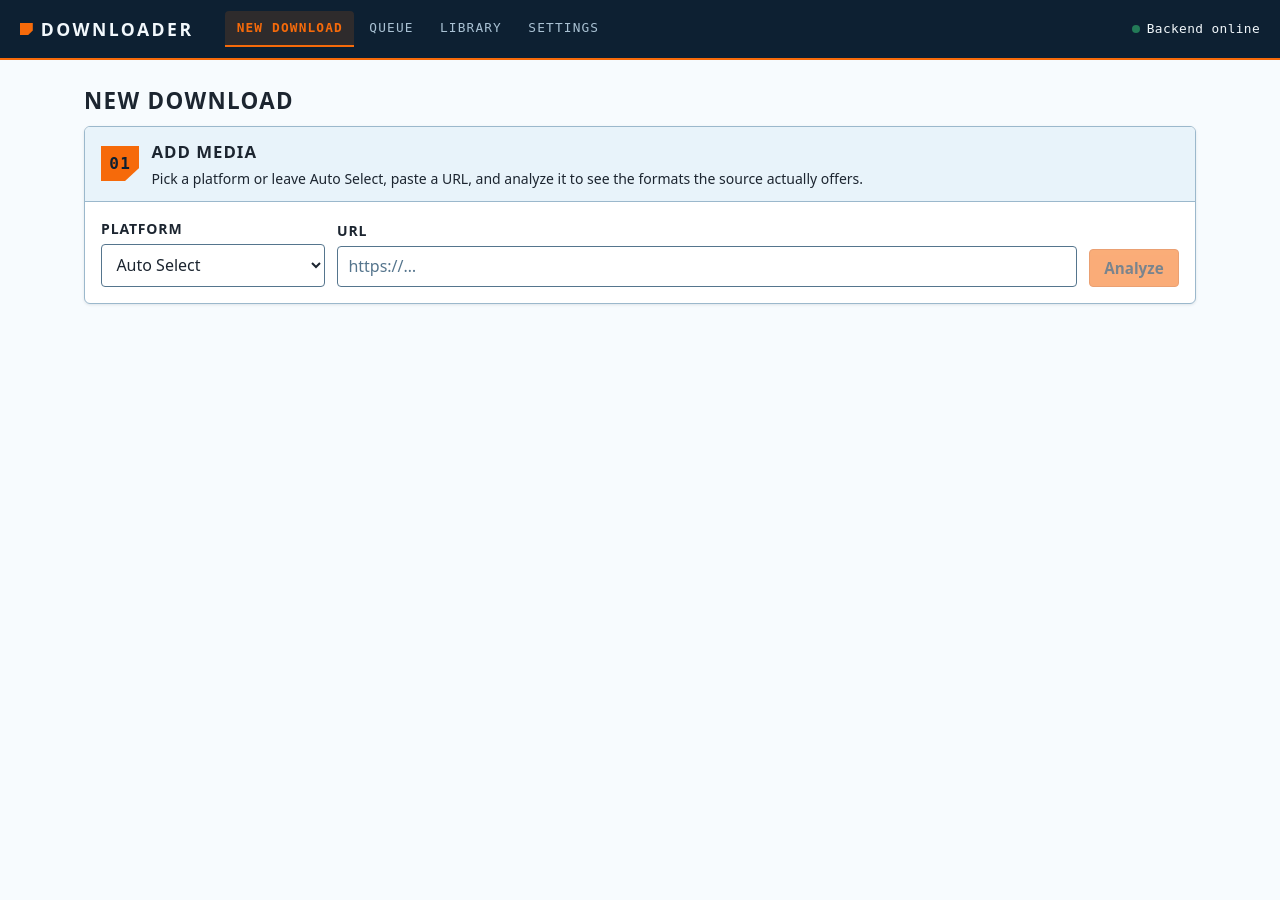
Scenario: CollectionSelection › renders the analyzed snapshot in source order with stable ids, raw gaps and reasons
Type "https://soundcloud.com/artist/sets/test-album" into the field labelled "URL" at (707, 266), box [337, 246, 1077, 287]
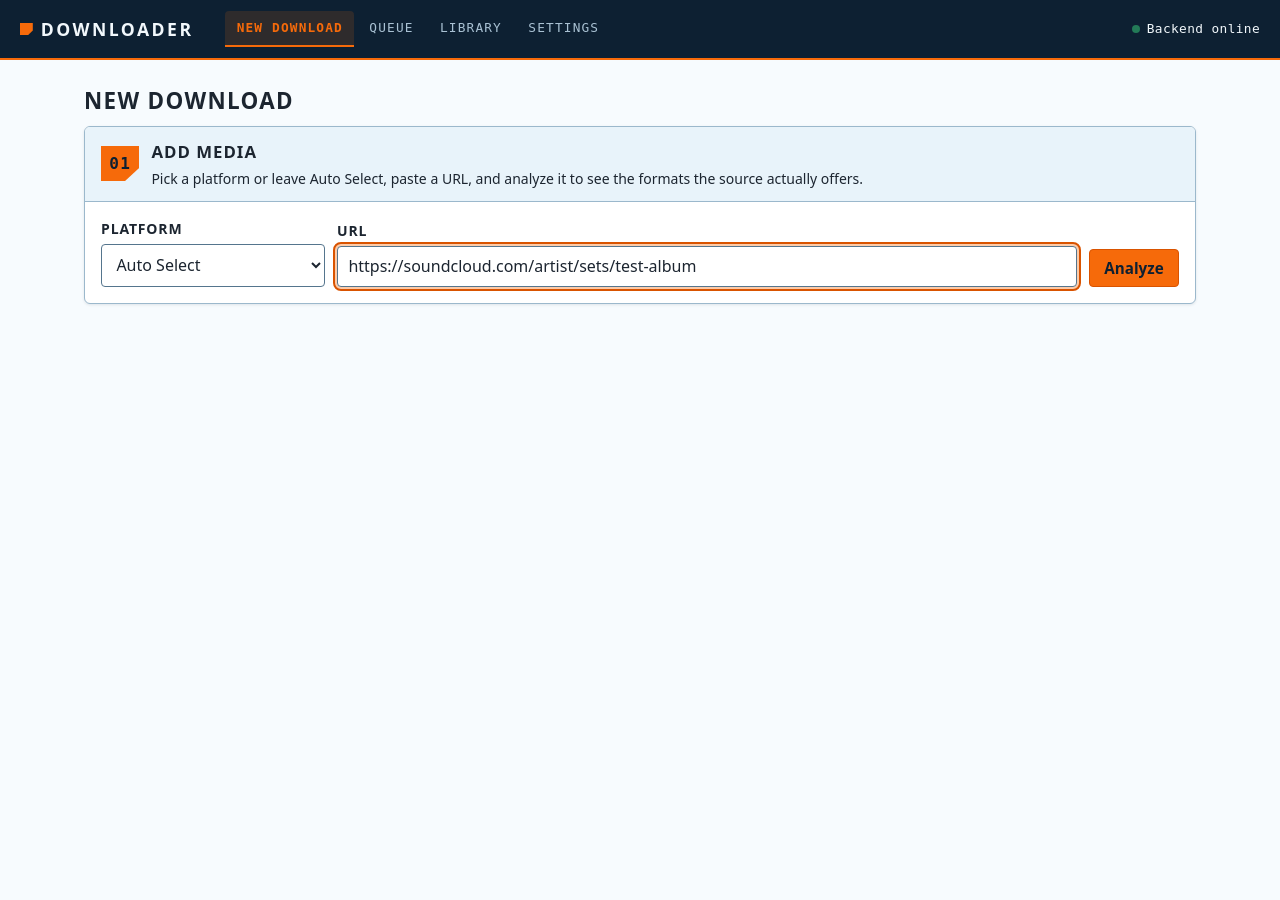
Click the button "Analyze" at (1134, 268), box [1089, 249, 1179, 287]
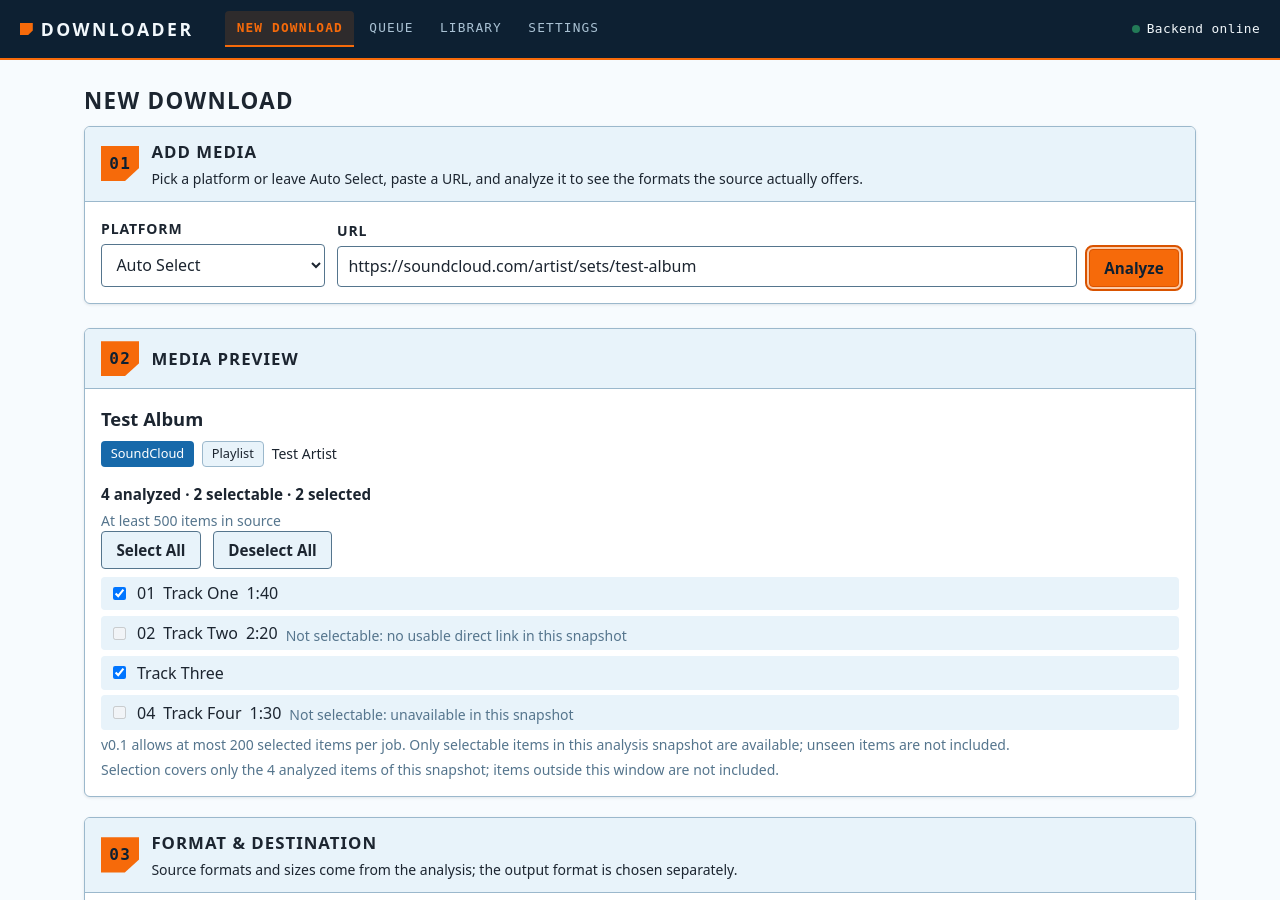
Now the text "Track One" is shown, box [163, 582, 238, 606]
Now the number of list items is 4, box [101, 577, 1179, 610]; [101, 616, 1179, 650]; [101, 656, 1179, 690]; [101, 695, 1179, 730]
Now the checkbox labelled "01 Track One 1:40" is checked, box [113, 587, 126, 600]
